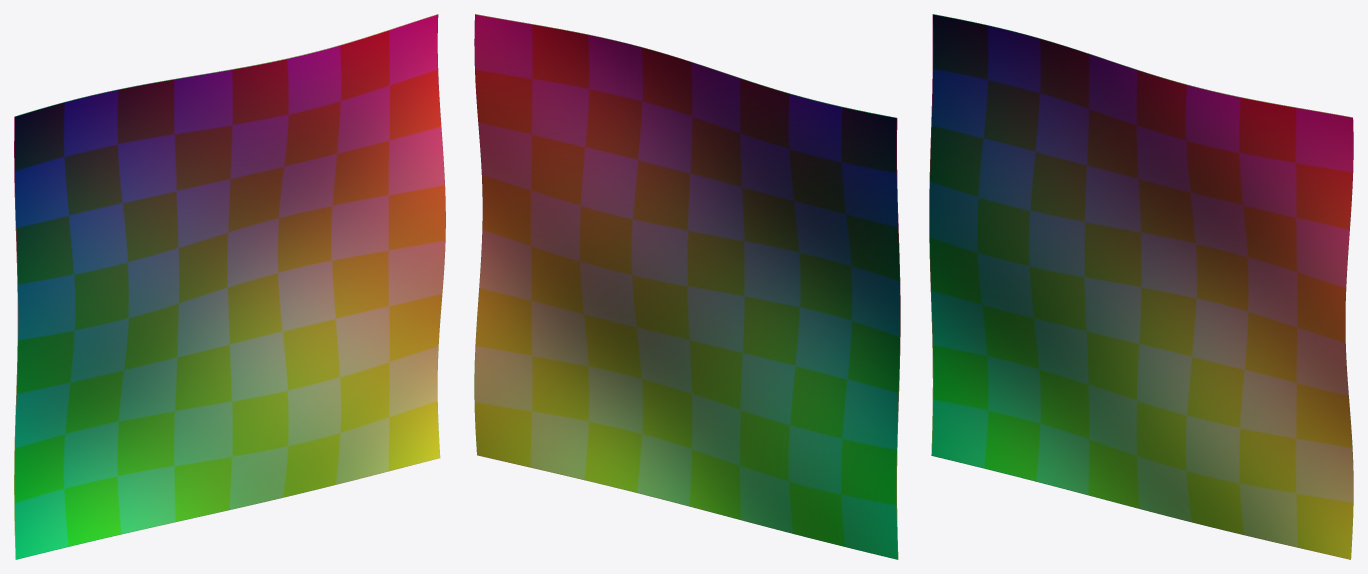
Rendered from Tile_+002_+003.obj.
The picture shows the model from 3 angles, left to right: view 1: azimuth 30°, elevation 25°; view 2: azimuth 150°, elevation 25°; view 3: azimuth 330°, elevation 25°; orthographic projection.
Bounding box in the file's own units: 100 × 100 × 5.71.
